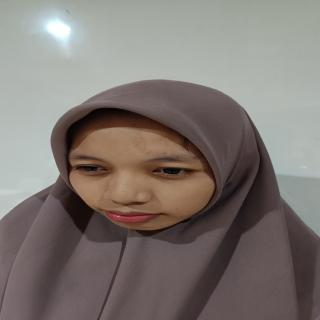Marah: (61, 107, 222, 240)
